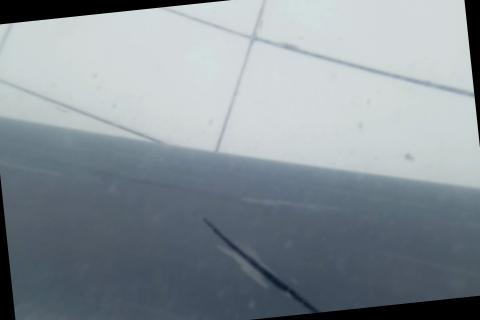keretakan: (201, 203, 333, 320)
